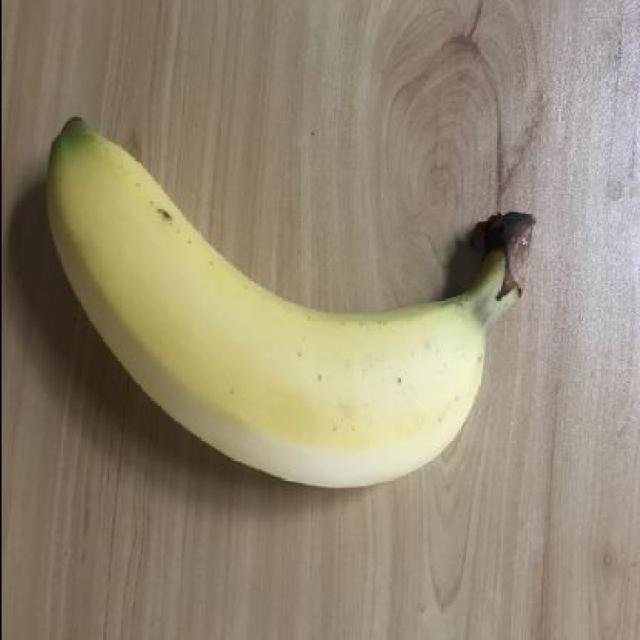Banana: (42, 118, 536, 492)
